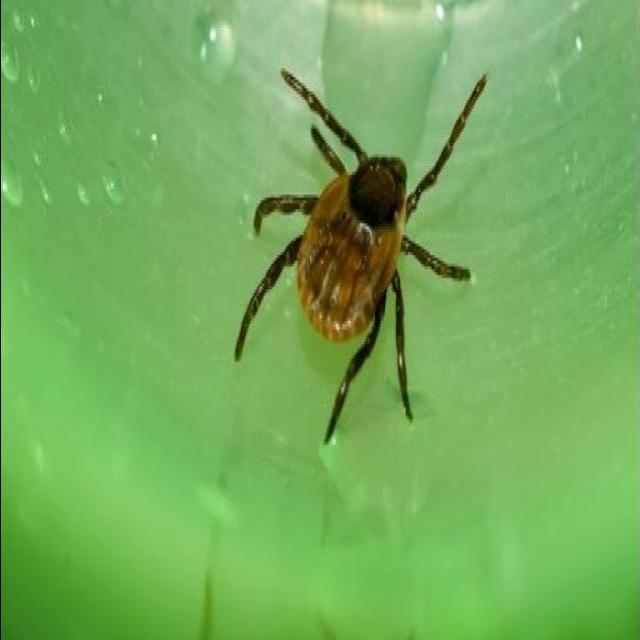Rhipicephalus Sanguineus-F: (237, 71, 485, 445)
